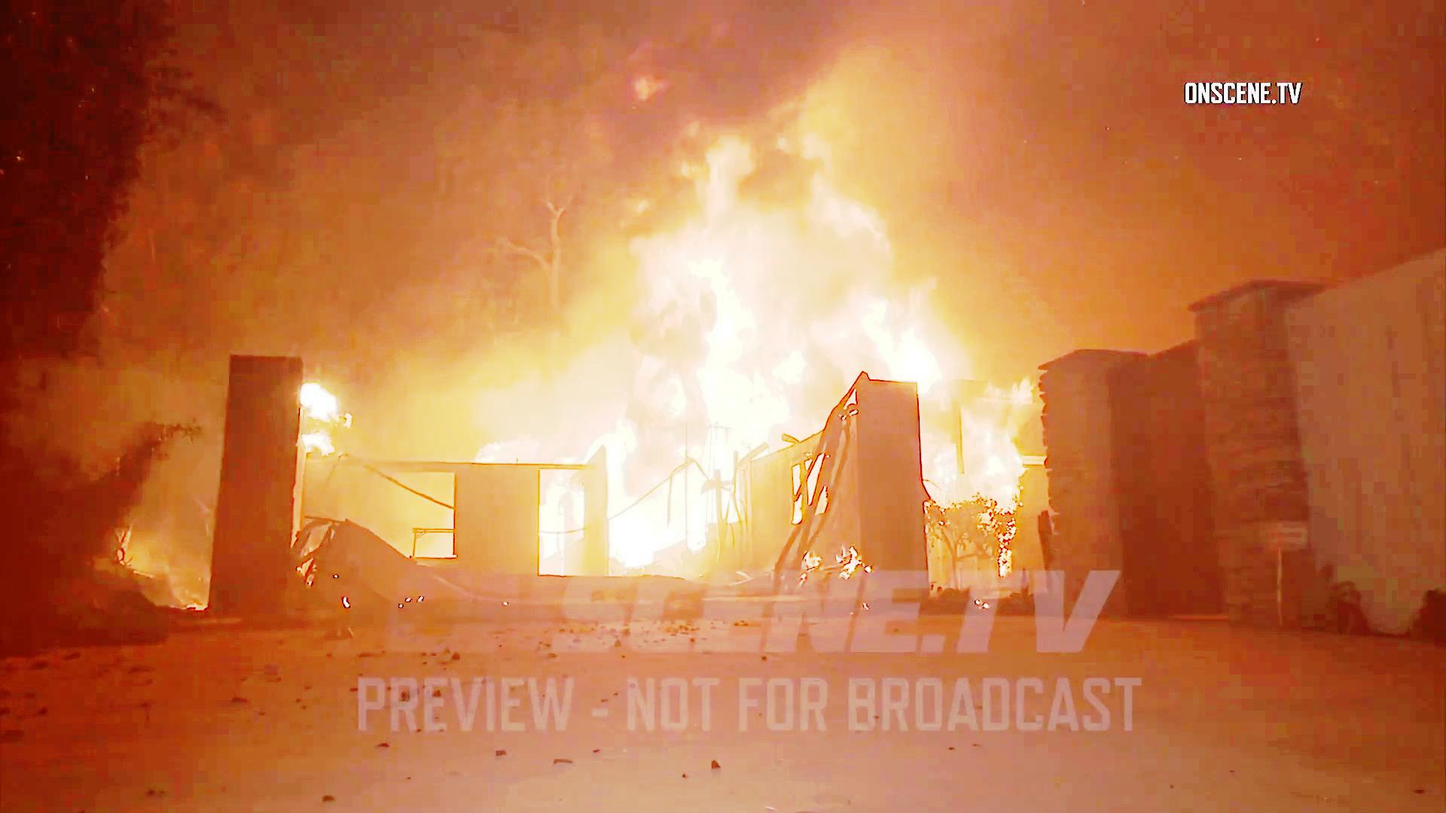fire: (571, 168, 770, 536)
